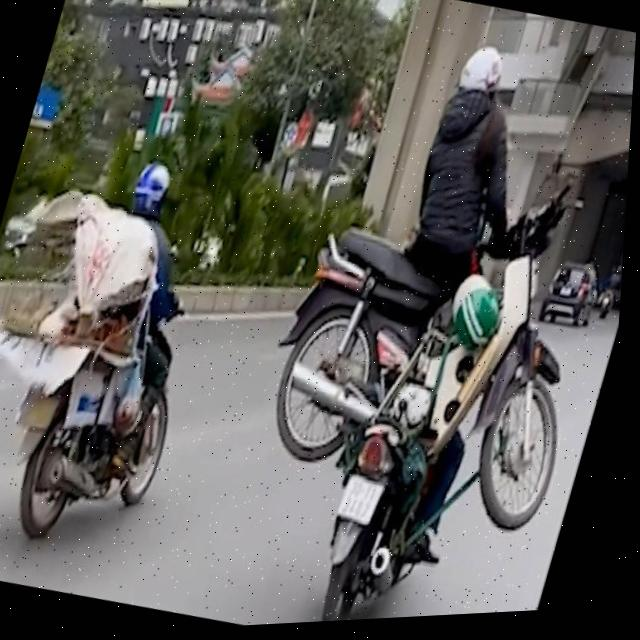motorcycle: (235, 116, 631, 555), (0, 288, 211, 560), (293, 392, 453, 623)
plate: (328, 466, 390, 531)
